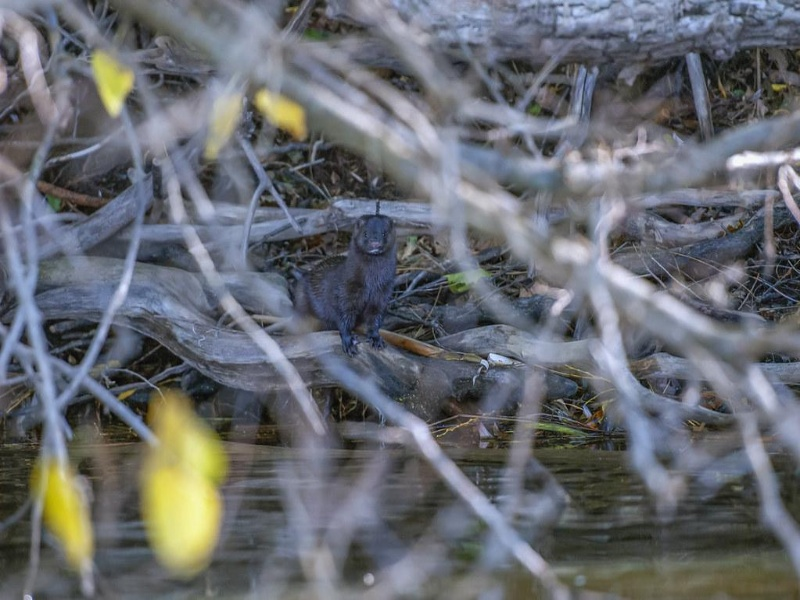minkish: (283, 209, 400, 360)
